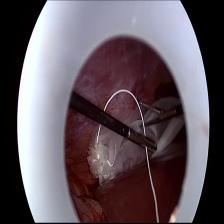Grasper: (130, 128, 159, 156), (138, 100, 164, 130)
Specimen Bag: (79, 119, 138, 190)
